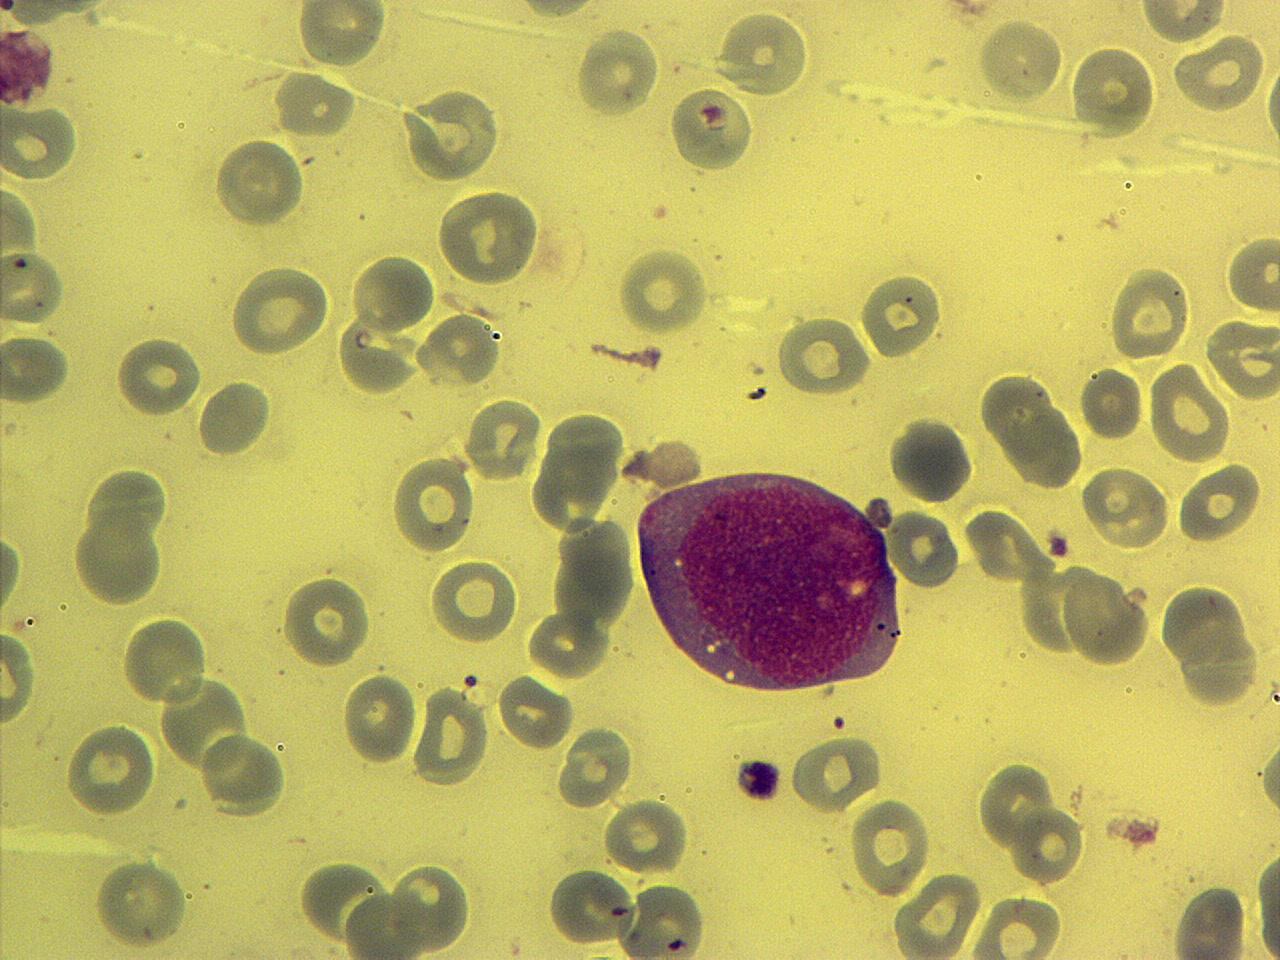RBC: (1, 824, 193, 960), (530, 409, 628, 534), (436, 186, 543, 286), (398, 84, 502, 184), (226, 262, 332, 357), (157, 673, 249, 775), (62, 720, 158, 818), (93, 856, 190, 951), (712, 7, 811, 99), (1060, 564, 1148, 668), (212, 134, 306, 230), (280, 570, 372, 669), (1145, 360, 1233, 463), (389, 452, 477, 554), (71, 512, 165, 606), (1107, 262, 1193, 364), (615, 244, 710, 337), (848, 794, 931, 898), (412, 682, 492, 790), (1069, 42, 1157, 140), (891, 867, 983, 960), (298, 856, 393, 946), (887, 410, 976, 506), (121, 612, 210, 708), (573, 24, 660, 121), (774, 313, 870, 399), (1079, 462, 1171, 552), (858, 268, 944, 363), (428, 556, 520, 644), (1170, 30, 1266, 115), (1160, 580, 1250, 670), (388, 858, 472, 954), (976, 16, 1064, 106), (1174, 458, 1264, 546), (340, 670, 419, 768), (790, 731, 884, 815), (114, 332, 204, 418), (668, 86, 754, 176), (601, 794, 690, 878), (350, 249, 436, 336), (196, 731, 285, 815), (614, 880, 710, 958), (546, 864, 634, 949), (976, 758, 1053, 852), (83, 462, 170, 544), (463, 394, 544, 482), (556, 724, 636, 812), (968, 889, 1066, 960), (415, 310, 500, 389), (886, 506, 963, 592), (495, 672, 577, 751), (1205, 315, 1279, 402), (198, 376, 274, 459), (1012, 802, 1086, 886), (294, 1, 388, 68), (2, 102, 80, 182), (526, 608, 612, 680), (270, 69, 357, 139), (343, 886, 425, 960), (2, 330, 73, 406), (2, 246, 67, 330), (1223, 230, 1279, 318), (1136, 0, 1232, 46), (0, 626, 39, 730), (1252, 836, 1280, 960), (1256, 723, 1280, 833), (1, 520, 25, 628)
WBC: (624, 456, 910, 700)
